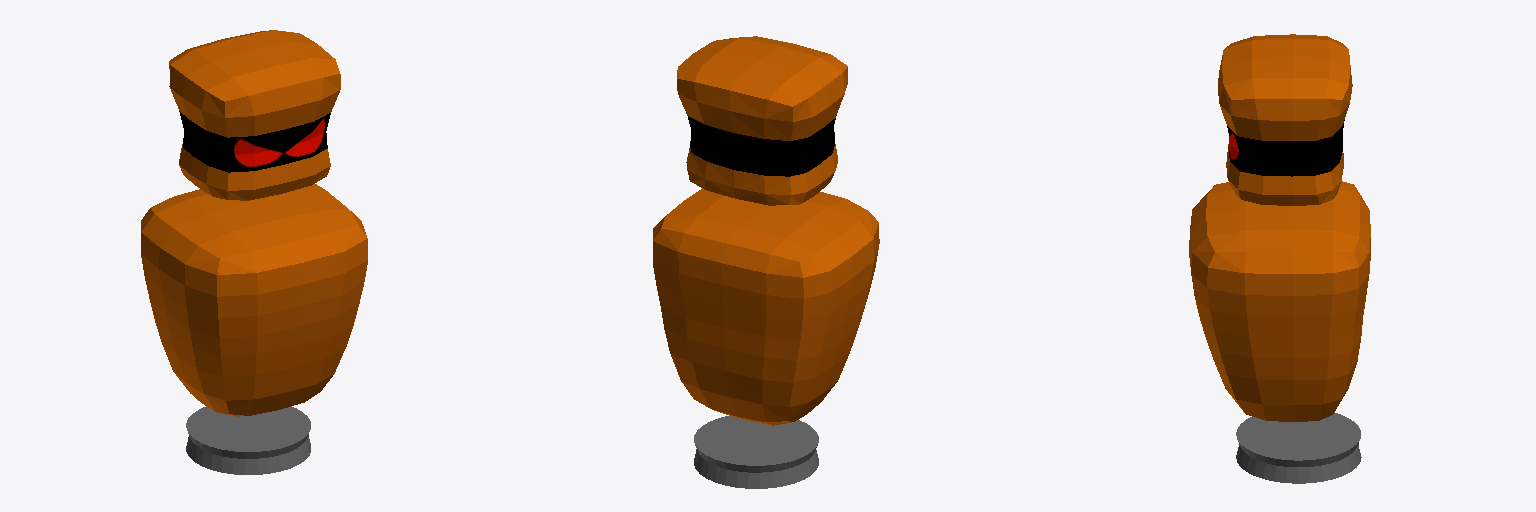
3 views of the same model, side by side, from view 1: azimuth 30°, elevation 25°; view 2: azimuth 150°, elevation 25°; view 3: azimuth 270°, elevation 25° (orthographic).
Parts seen in each view (by area): view 1: 立方体, 立方体.001, Cylinder; view 2: 立方体, 立方体.001, Cylinder; view 3: 立方体, 立方体.001, Cylinder.
Part boxes in pixels (x1,y1,x2,y2): 立方体: (141,184,367,416); 立方体.001: (169,30,340,200); Cylinder: (186,406,310,474); 立方体: (653,188,879,425); 立方体.001: (677,36,847,205); Cylinder: (694,415,818,488); 立方体: (1189,181,1370,421); 立方体.001: (1218,34,1352,205); Cylinder: (1236,412,1361,483).
Size of the model in its own units: 2.14 by 4.5 by 1.86.
Materials: 3 (3 with a texture image).